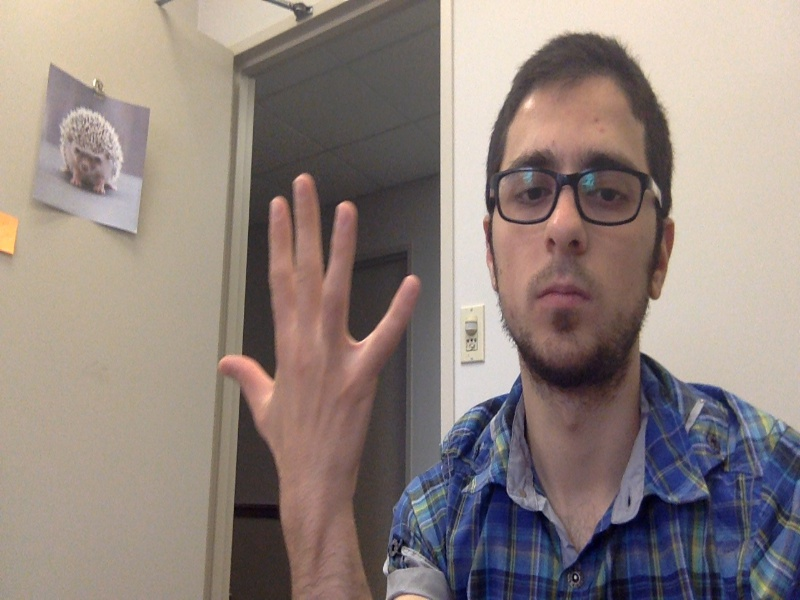5-hand: (215, 174, 421, 493)
